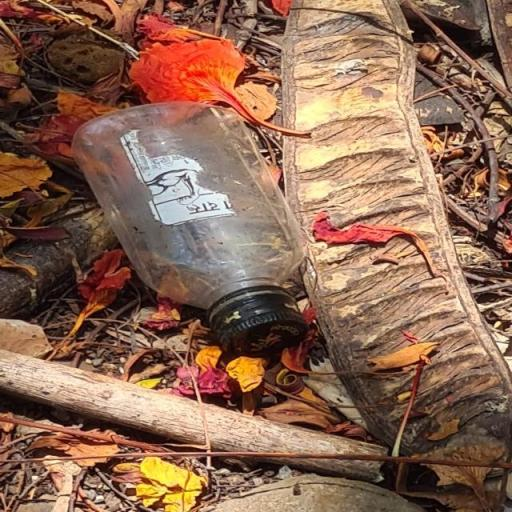glass: (69, 82, 320, 353)
